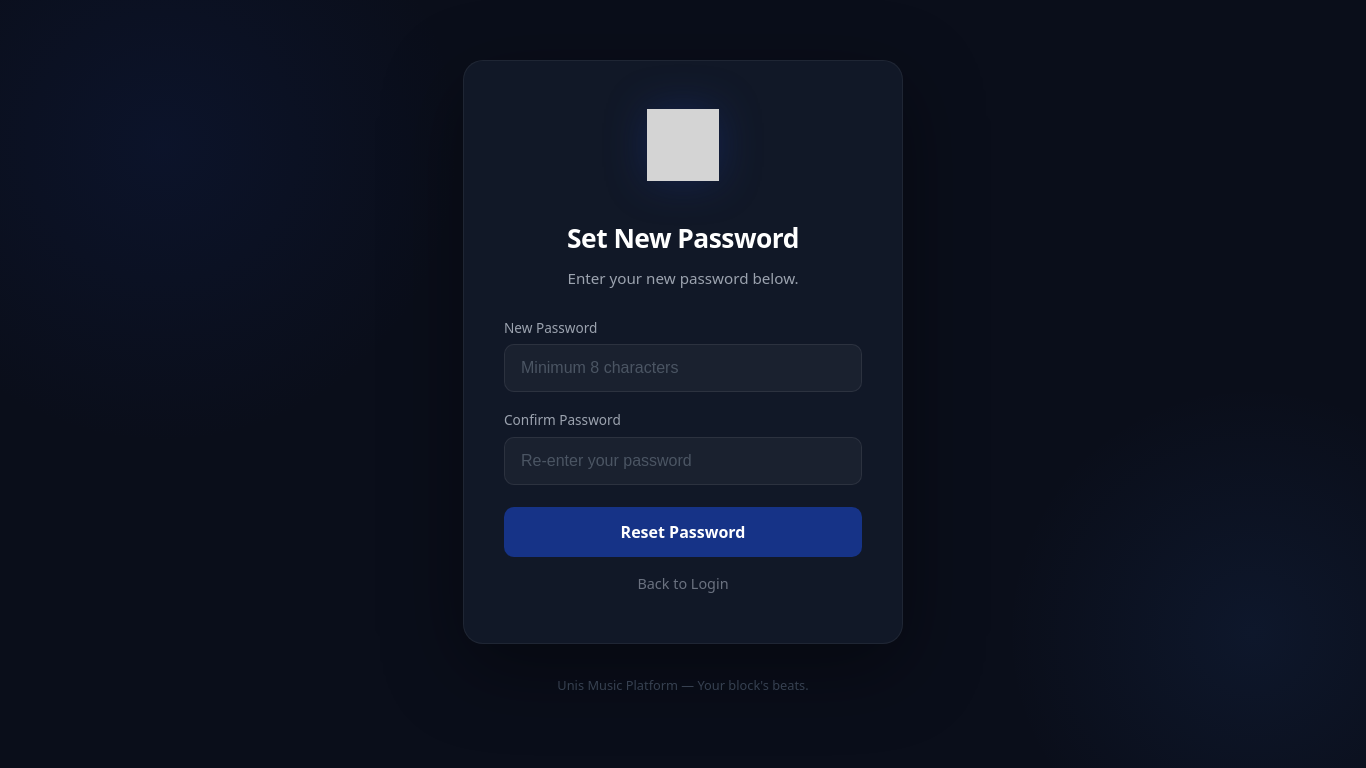
Test case: successful submission › transitions to success state
Type "newpassword123" into the password field with placeholder "Minimum 8 characters" at (683, 368), box [504,344,862,392]
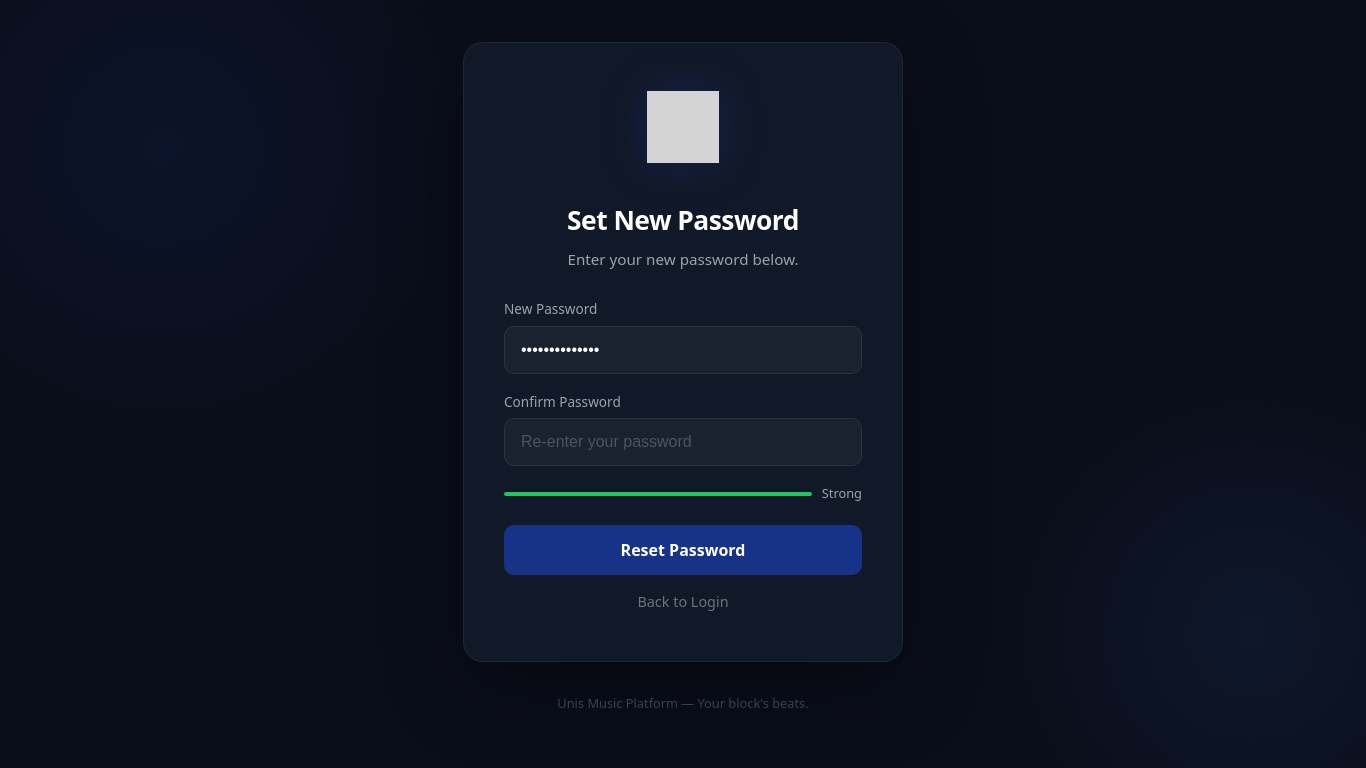
Type "newpassword123" into the password field with placeholder "Re-enter your password" at (683, 442), box [504,418,862,466]
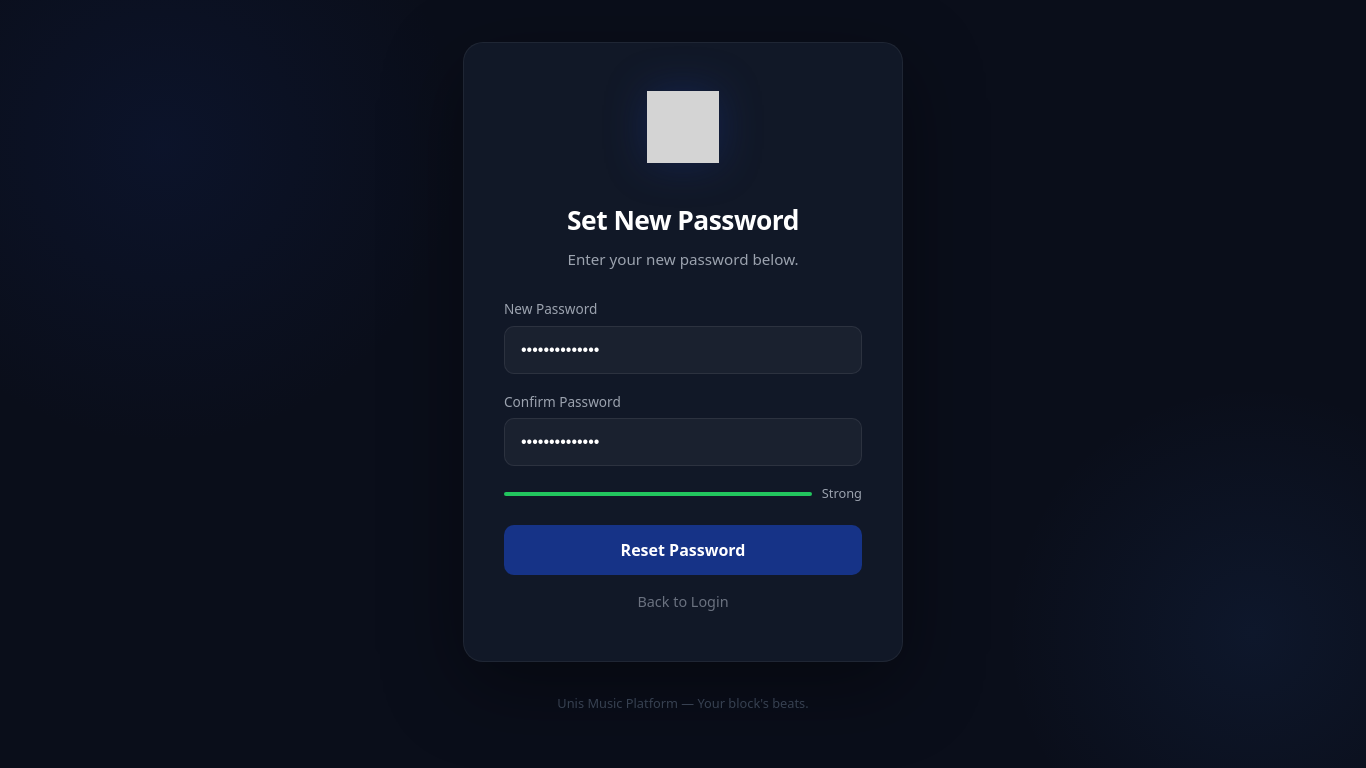
Click the button "Reset Password" at (683, 550), box [504,525,862,575]
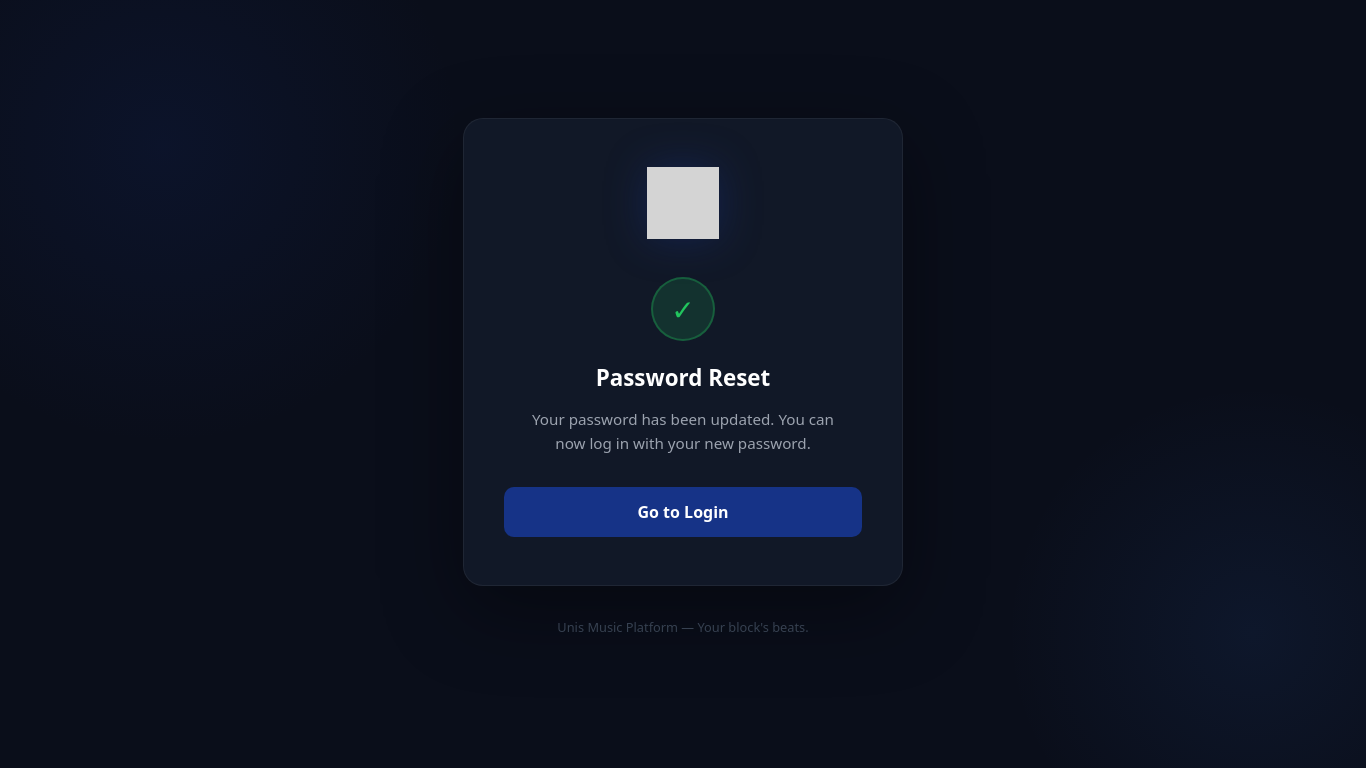
Now the heading "Password Reset" is shown, box [596,361,770,394]
Now the button "Go to Login" is shown, box [504,487,862,537]
